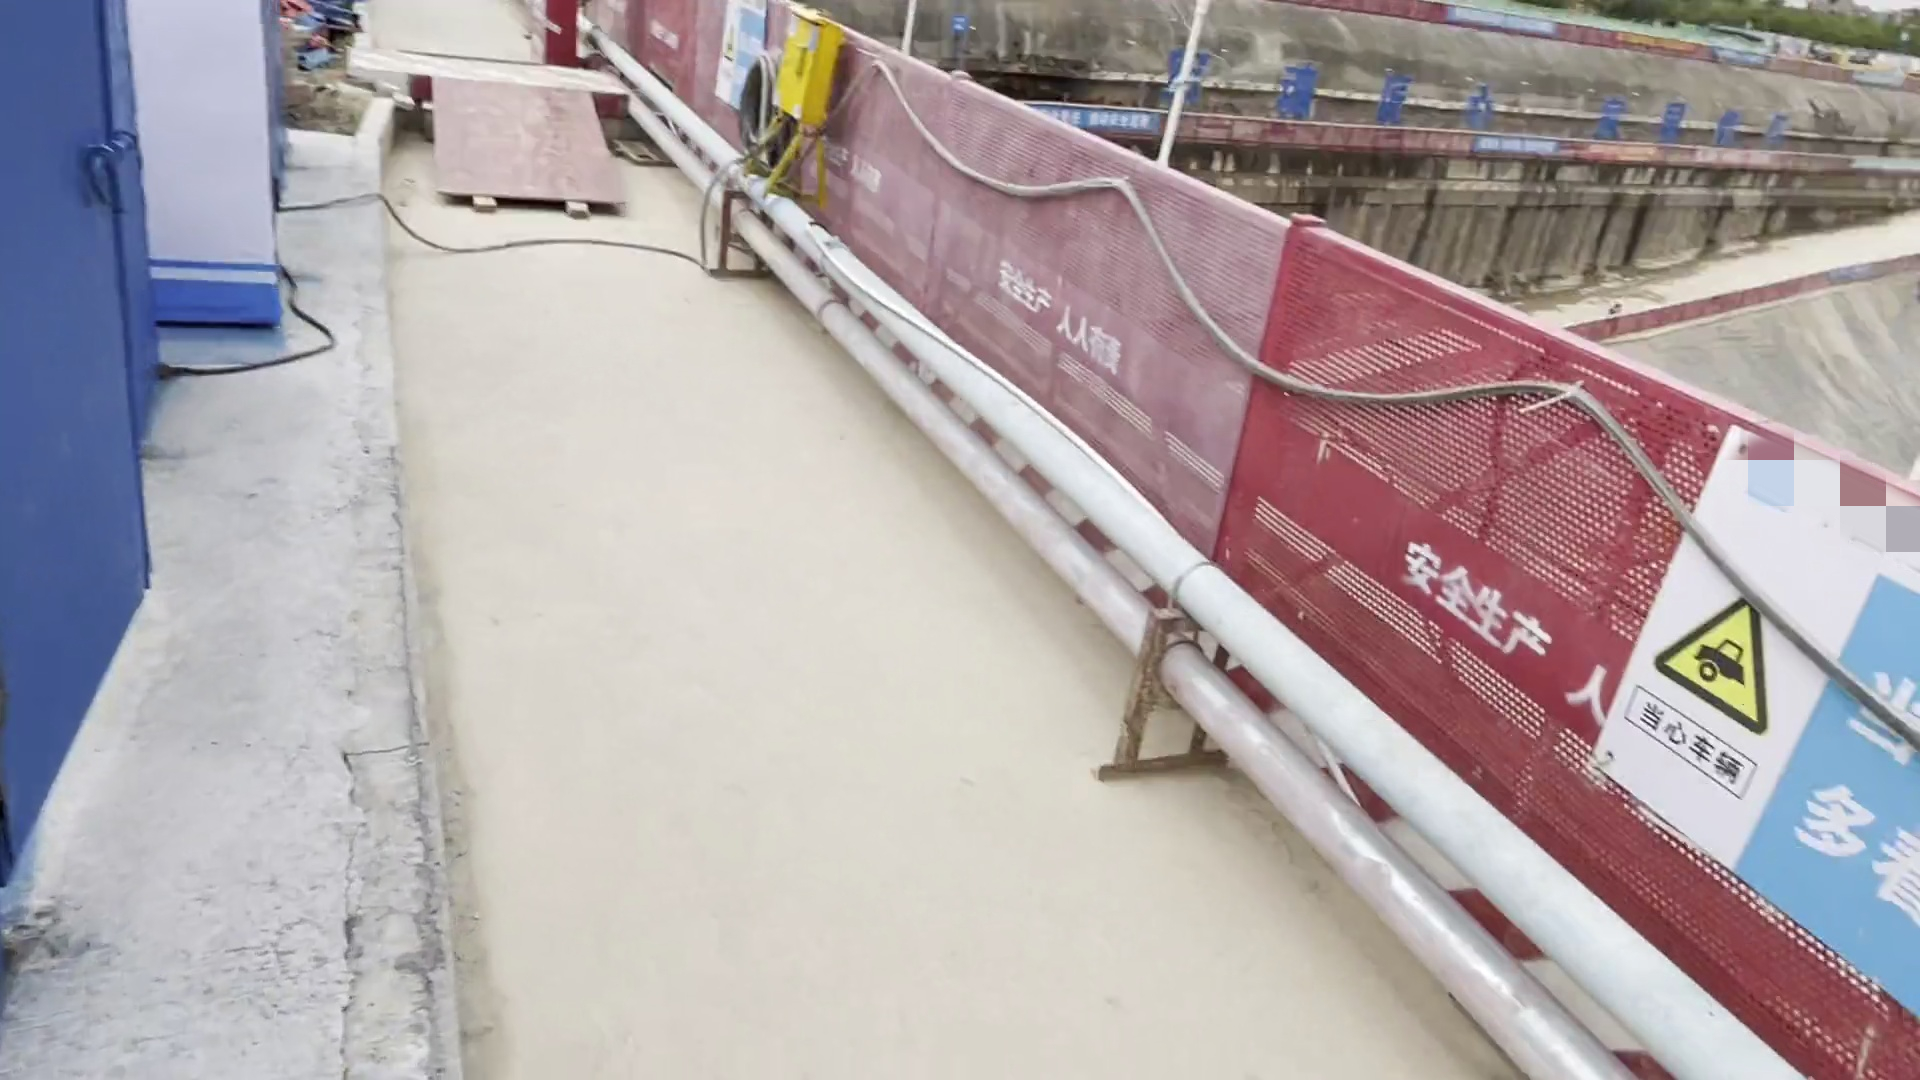board: (411, 63, 644, 235)
ebox: (764, 7, 843, 215)
fence: (872, 47, 1593, 798)
slogan: (1593, 397, 1920, 1006)
